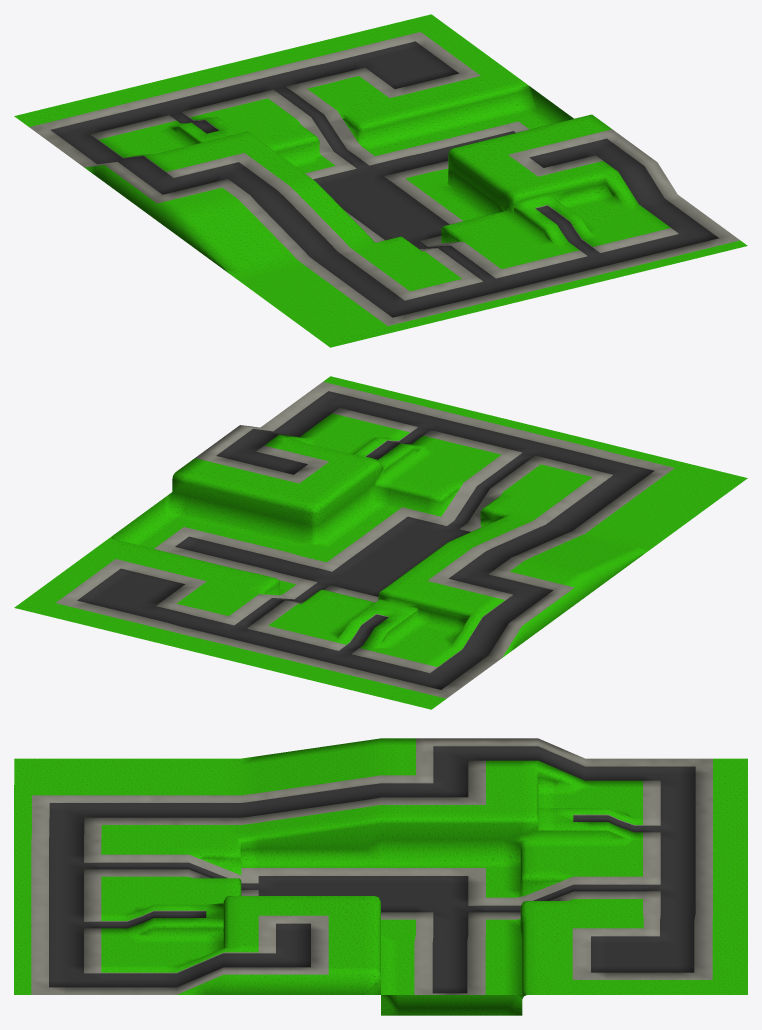
File: Neighbourhood-HillsV2.fbx
The picture shows the model from 3 angles, top to bottom: view 1: azimuth 30°, elevation 25°; view 2: azimuth 150°, elevation 25°; view 3: azimuth 270°, elevation 25°; orthographic projection. The views are drawn at different scales.
Visible parts, largest first — view 1: NB1; view 2: NB1; view 3: NB1.
Boxes of the visible parts, <box> form: NB1: <box>14,14,747,347</box>; NB1: <box>14,376,747,709</box>; NB1: <box>14,738,747,1015</box>.
Size of the model in its own units: 2438 by 200 by 3200.
